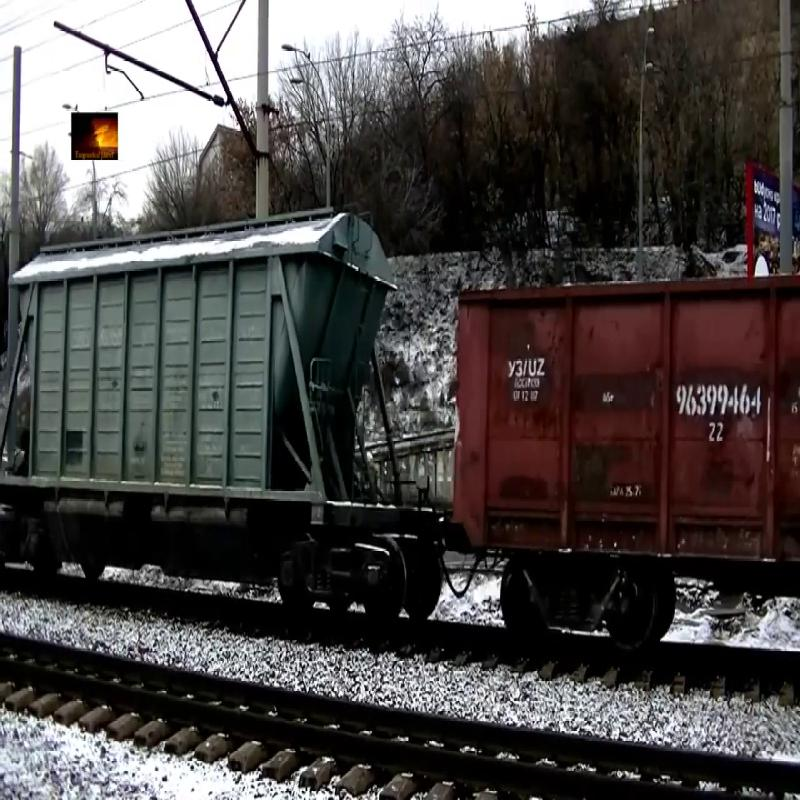train: (1, 204, 403, 541), (450, 267, 800, 579)
